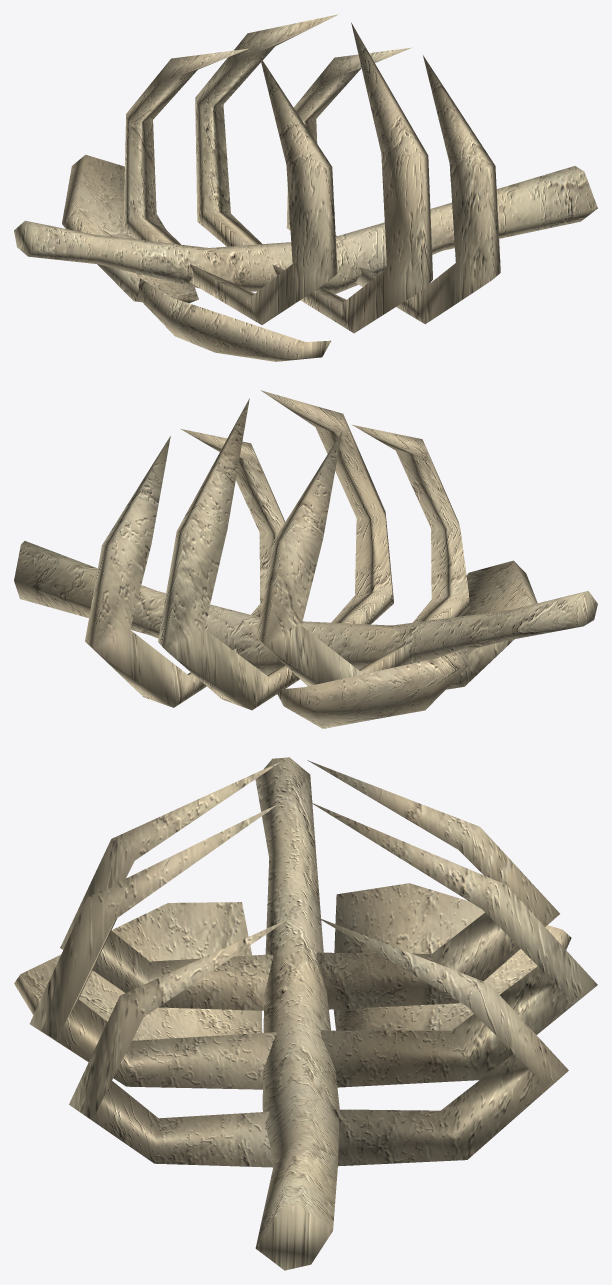
File: Skeleton01.FBX
The picture shows the model from 3 angles, top to bottom: view 1: azimuth 30°, elevation 25°; view 2: azimuth 150°, elevation 25°; view 3: azimuth 270°, elevation 25°; orthographic projection. The views are drawn at different scales.
Parts seen in each view (by area): view 1: Skeleton01; view 2: Skeleton01; view 3: Skeleton01.
Boxes of the visible parts, x1,y1,x2,y2 form: Skeleton01: (14,14,597,361); Skeleton01: (14,390,597,728); Skeleton01: (14,757,597,1270).
Bounding box in the file's own units: 17.68 × 8.35 × 12.5.
